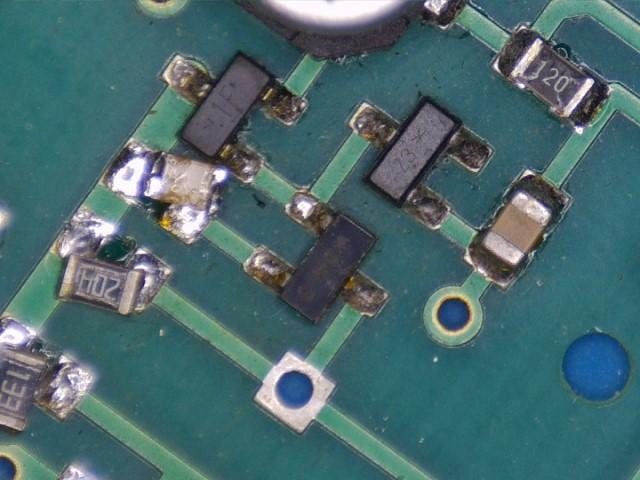Incorrect_installation: (97, 135, 231, 247), (49, 204, 175, 319), (1, 311, 97, 434)
